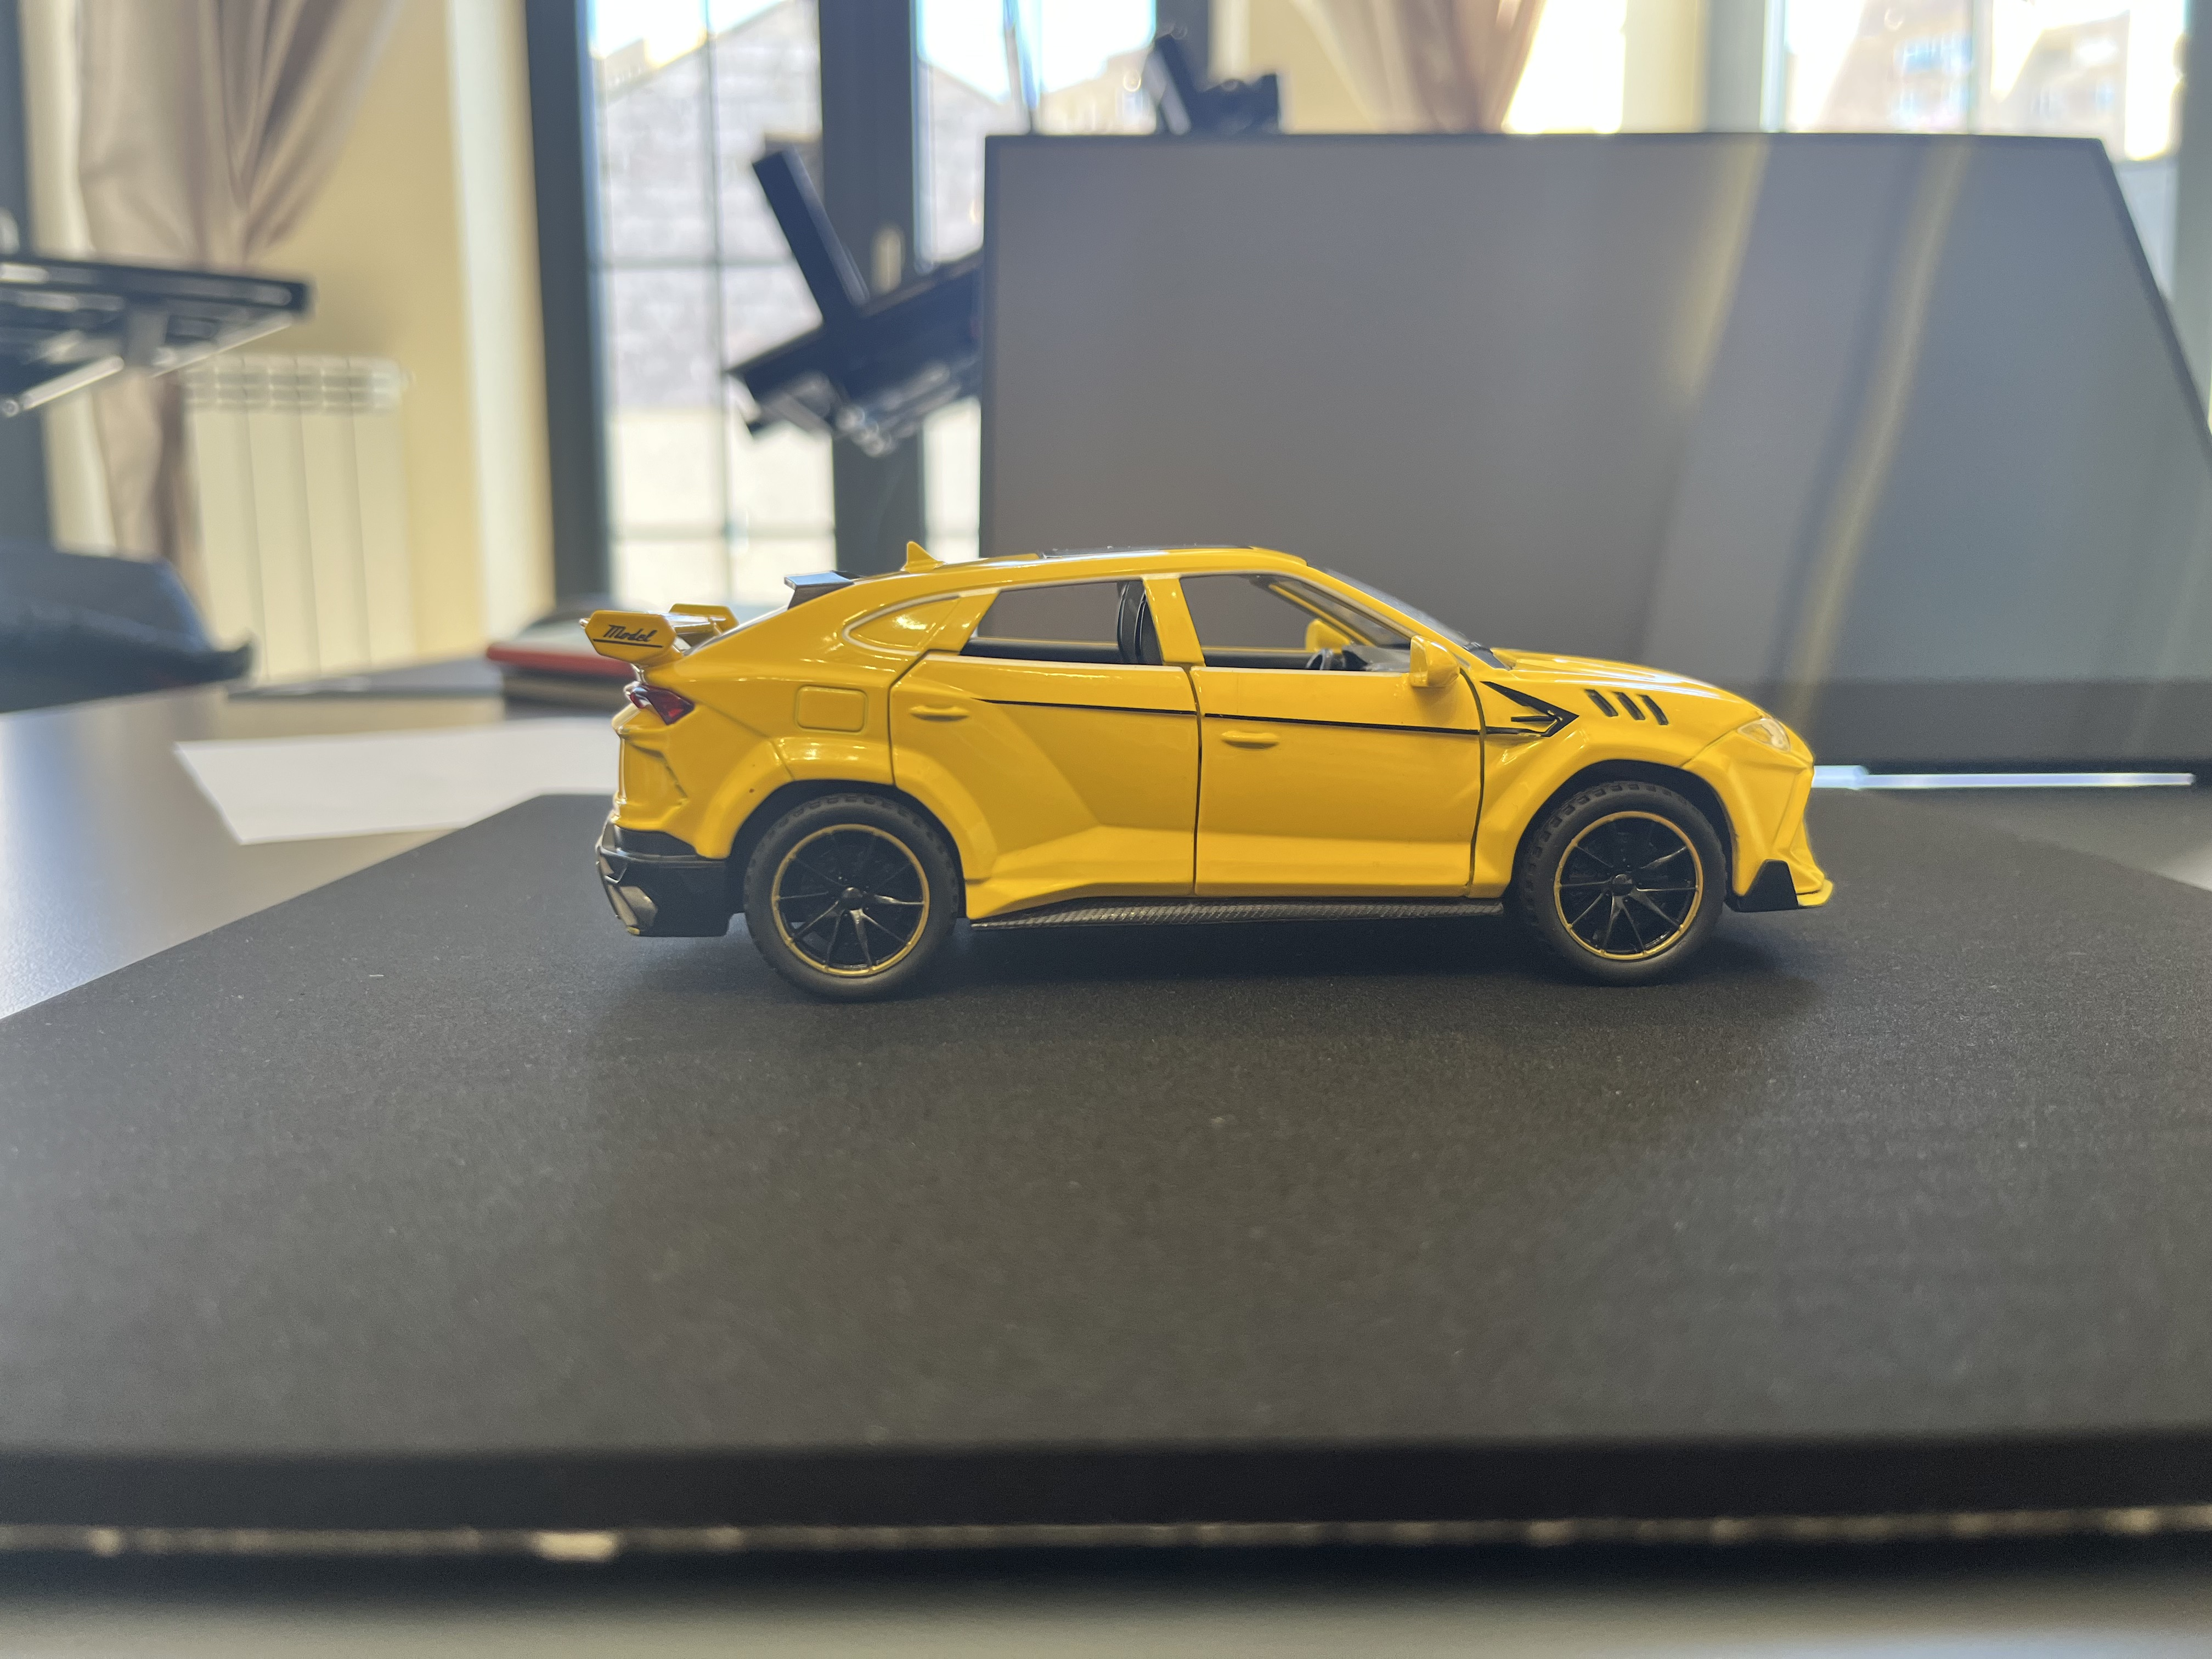lambo: (571, 537, 1832, 992)
